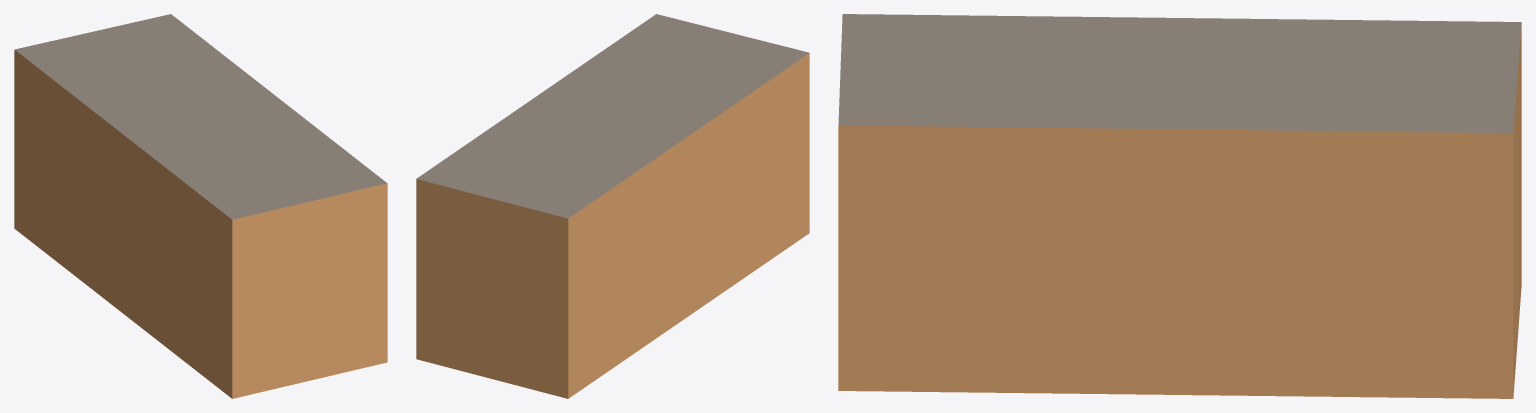
The picture shows the model from 3 angles, left to right: view 1: azimuth 30°, elevation 25°; view 2: azimuth 150°, elevation 25°; view 3: azimuth 270°, elevation 25°; orthographic projection. The views are drawn at different scales.
Parts seen in each view (by area): view 1: element.003; view 2: element.003; view 3: element.003.
Part boxes in pixels (x1,y1,x2,y2): element.003: [14, 14, 387, 398]; element.003: [416, 14, 809, 398]; element.003: [838, 14, 1521, 398].
Size of the model in its own units: 7.73 by 8.03 by 18.7.
